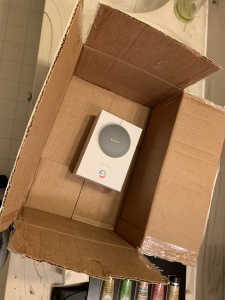innerbox: (65, 57, 156, 236)
outerbox: (1, 5, 225, 283)
product: (77, 111, 145, 193)
